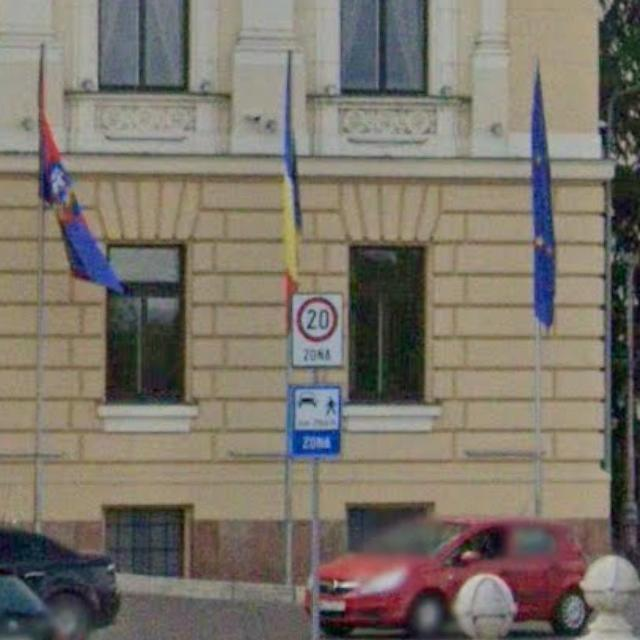forb_speed_over_20: (296, 297, 339, 344)
